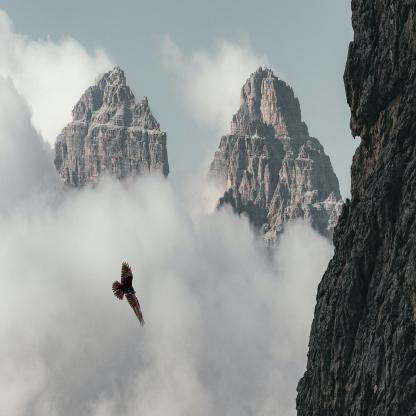bird: (112, 262, 145, 328)
